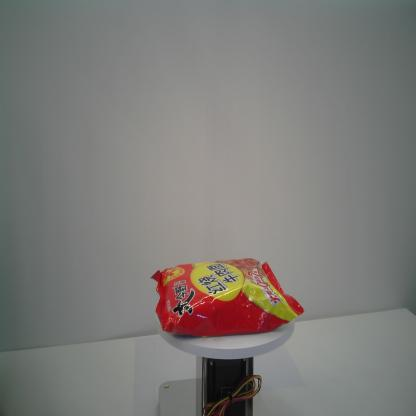Instant Noodles: (149, 257, 306, 339)
